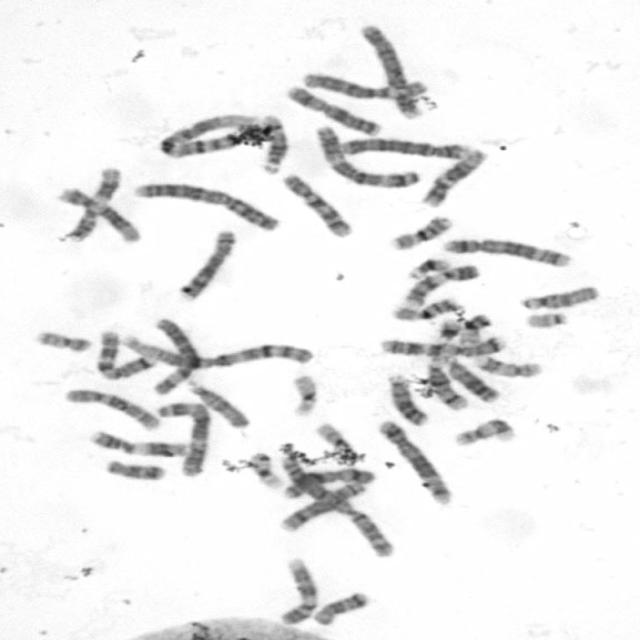A1: (118, 330, 316, 369), (154, 110, 277, 160)
A2: (274, 452, 398, 560), (129, 180, 283, 232)
A3: (310, 120, 424, 188), (153, 397, 213, 478)
B4: (354, 19, 424, 121), (331, 134, 474, 161)
B5: (372, 415, 454, 505), (439, 233, 574, 268)
C10: (277, 170, 356, 240), (60, 386, 162, 432)
C11: (61, 161, 125, 243), (84, 428, 192, 458)
C12: (53, 183, 144, 244), (416, 144, 490, 208)
C6: (145, 315, 200, 397), (300, 68, 432, 102)
C7: (90, 327, 157, 380), (376, 332, 509, 358)
C8: (275, 477, 367, 533), (173, 226, 239, 302)
C9: (397, 261, 481, 308), (273, 554, 322, 624)
D13: (436, 352, 502, 405), (382, 370, 432, 427)
D14: (423, 354, 470, 412), (255, 112, 291, 174)
D15: (182, 374, 253, 431), (517, 281, 601, 311)
E16: (384, 210, 456, 252), (386, 294, 465, 322)
E17: (448, 413, 519, 447), (468, 351, 546, 379)
E18: (310, 587, 372, 626), (101, 456, 167, 482)
F19: (284, 369, 323, 418), (245, 450, 285, 491)
F20: (30, 326, 93, 354), (454, 310, 494, 348)
G21: (402, 255, 452, 280), (432, 317, 462, 343)
G22: (312, 420, 354, 453), (520, 309, 571, 330)
X: (282, 82, 384, 136), (280, 464, 376, 499)
